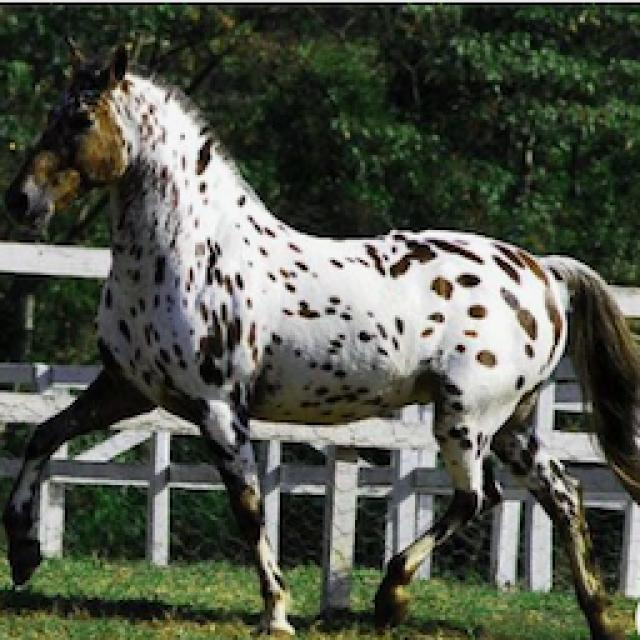Horse: (0, 35, 638, 638)
